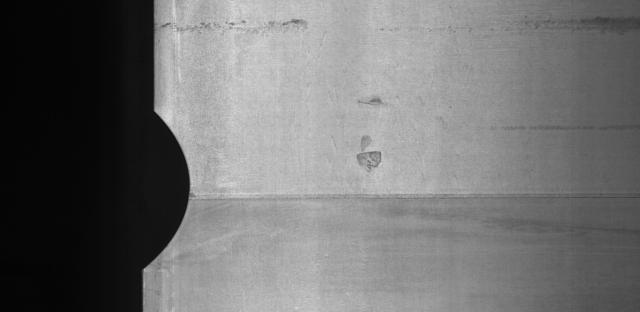crescent_gap: (133, 106, 200, 279)
welding_line: (184, 191, 640, 215)
